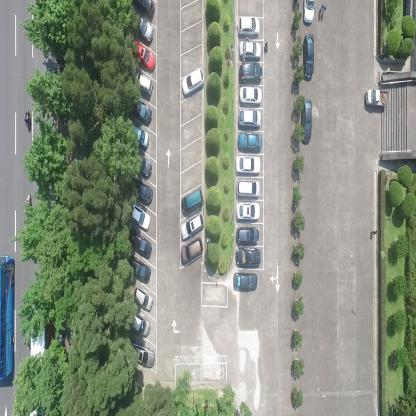car: (130, 39, 156, 73), (126, 227, 152, 259), (129, 340, 156, 370), (126, 257, 152, 286), (128, 150, 153, 180), (180, 235, 203, 267), (131, 12, 154, 44), (127, 202, 151, 232), (180, 211, 204, 240), (181, 66, 204, 96), (130, 67, 152, 97), (299, 99, 313, 145), (130, 97, 152, 126), (128, 122, 150, 151), (129, 178, 153, 204), (127, 309, 150, 336), (302, 33, 315, 80), (238, 60, 262, 84), (181, 188, 204, 213), (133, 285, 154, 312), (236, 154, 261, 176), (235, 178, 260, 200), (237, 86, 263, 107), (237, 131, 263, 152), (236, 16, 261, 37), (235, 201, 260, 221), (234, 248, 261, 266), (237, 108, 262, 127), (233, 272, 258, 291), (238, 40, 262, 59), (236, 226, 260, 245), (364, 88, 389, 106), (132, 0, 154, 20), (302, 0, 316, 26)
